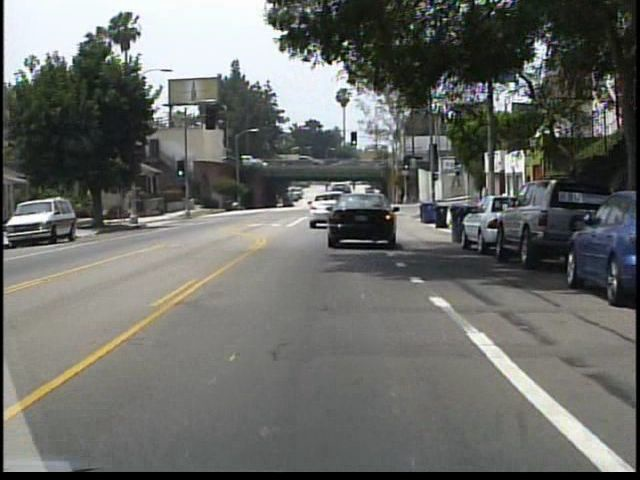person: (77, 200, 89, 229)
